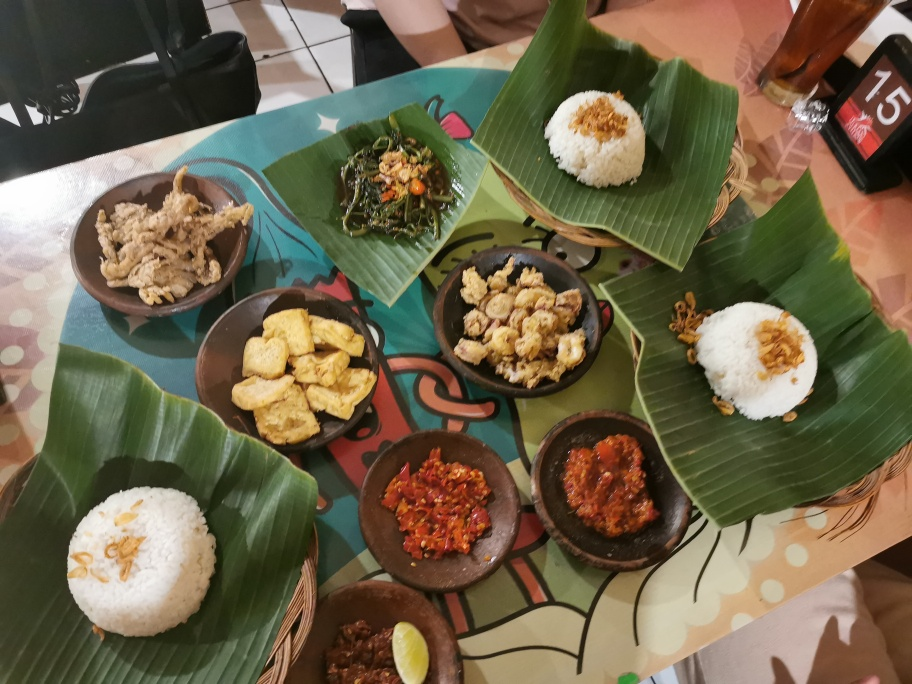nasi putih: (57, 483, 218, 642), (695, 301, 818, 422), (546, 88, 650, 189)
